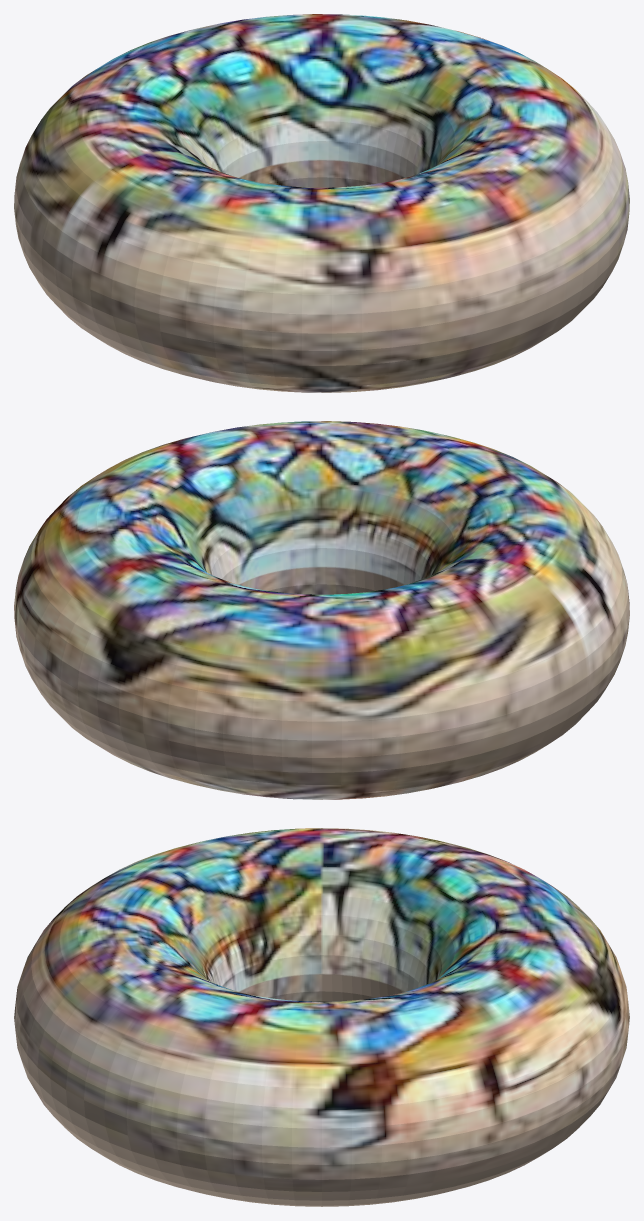
Rendered from donut_naive.glb.
3 renders of one model, top to bottom at view 1: azimuth 30°, elevation 25°; view 2: azimuth 150°, elevation 25°; view 3: azimuth 270°, elevation 25°, orthographic.
Visible parts, largest first — view 1: Torus.001; view 2: Torus.001; view 3: Torus.001.
Part boxes in pixels (left/top/right/bottom): Torus.001: left=14, top=14, right=629, bottom=392; Torus.001: left=14, top=421, right=629, bottom=799; Torus.001: left=14, top=828, right=629, bottom=1206.
Size of the model in its own units: 2.64 by 0.88 by 2.64.
1 material, 1 textured.
